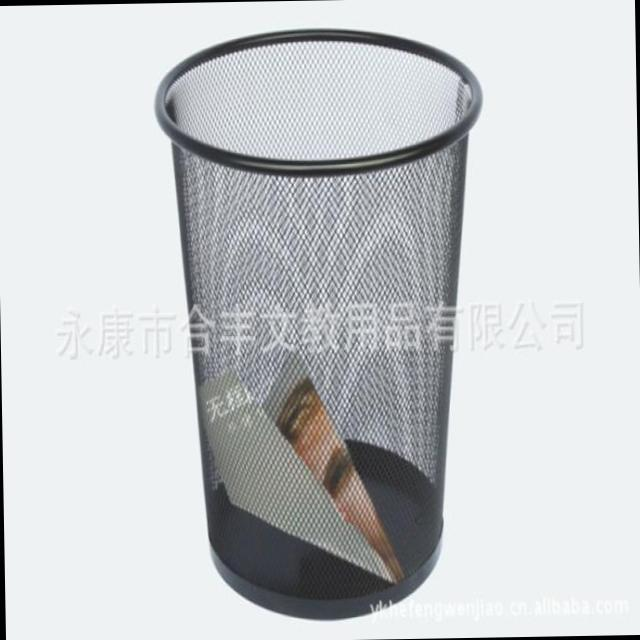dustbin: (147, 20, 498, 629)
